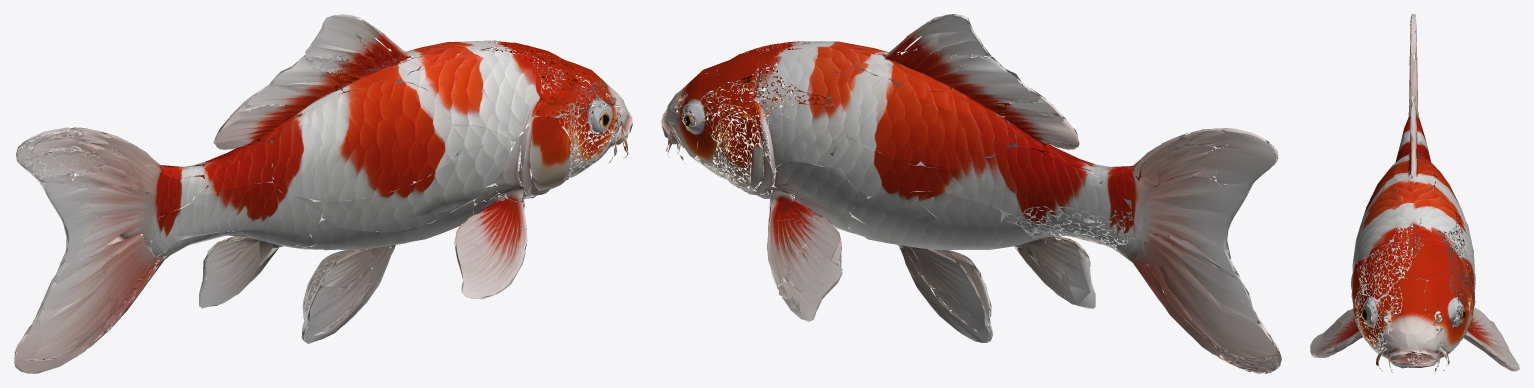
File: koi_red.glb
The picture shows the model from 3 angles, left to right: view 1: azimuth 30°, elevation 25°; view 2: azimuth 150°, elevation 25°; view 3: azimuth 270°, elevation 25°; orthographic projection. The views are drawn at different scales.
Parts seen in each view (by area): view 1: node_0; view 2: node_0; view 3: node_0.
Part boxes in pixels (left/top/right/bottom): node_0: left=14, top=14, right=632, bottom=373; node_0: left=661, top=14, right=1281, bottom=373; node_0: left=1310, top=14, right=1519, bottom=373.
Size of the model in its own units: 1.14 by 0.5692 by 0.4026.
1 material, 1 textured.
